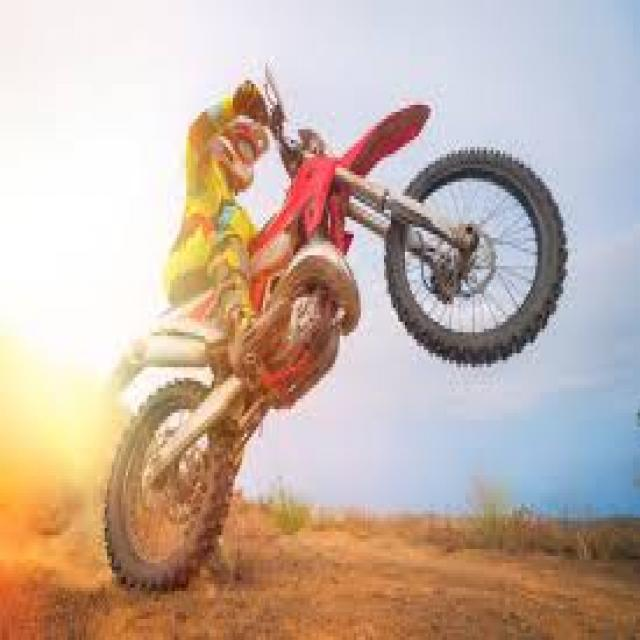Wheeling: (63, 52, 536, 524)
